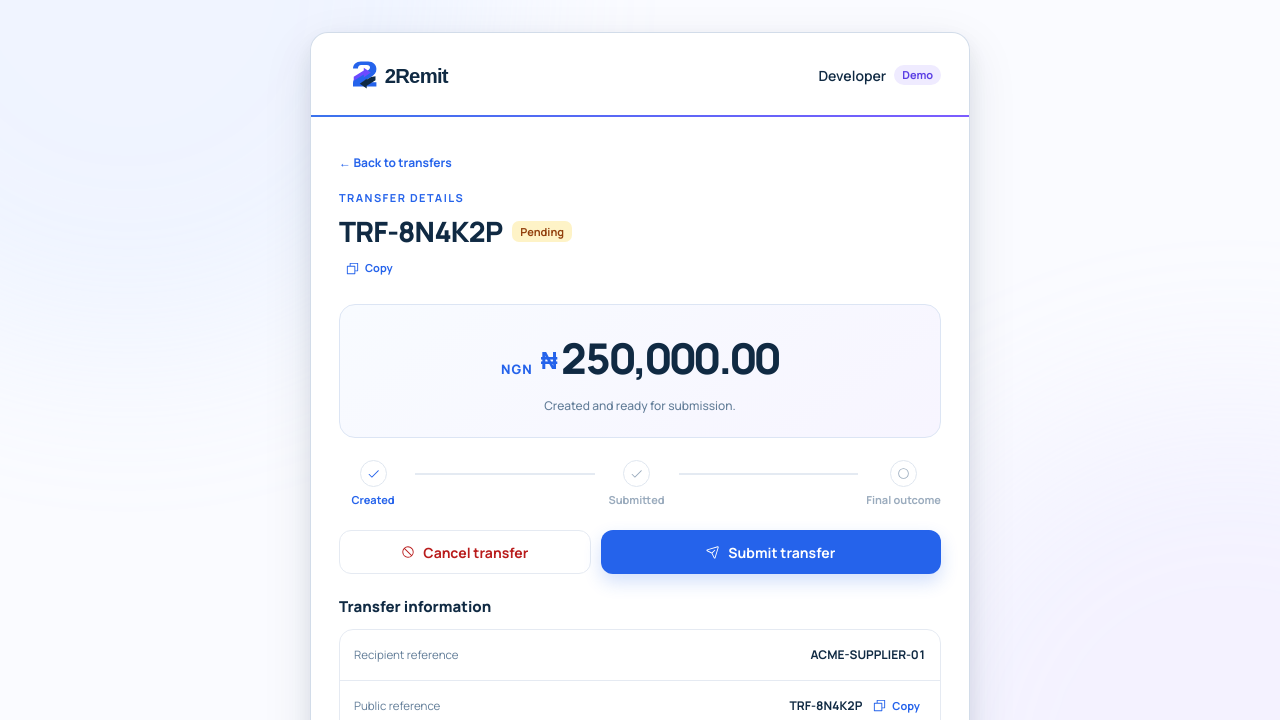
TransferDetailScreen › confirms cancellation and renders an immutable state
Expected: the heading "TRF-8N4K2P" is shown, [339,210,502,252]
Click the button "Cancel transfer" at [465, 552], box [339,530,591,574]
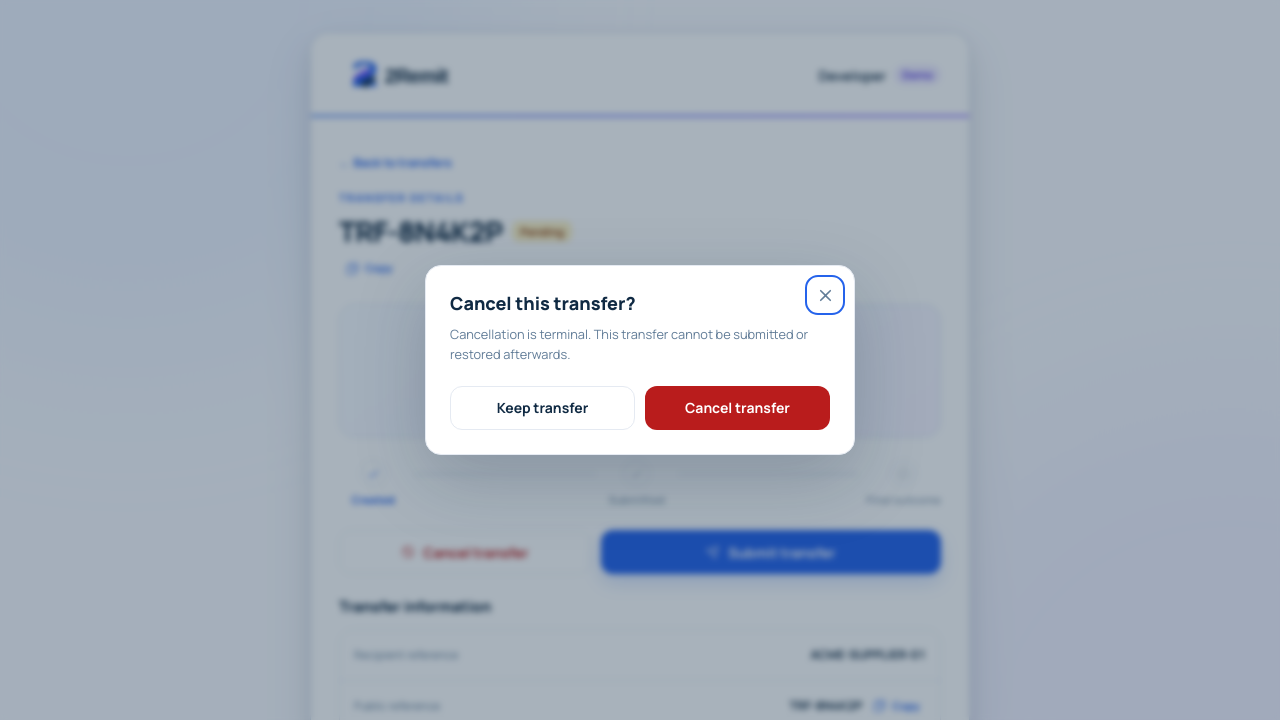
Now the dialog shows "Cancellation is terminal", box [450,325,808,362]
Click the button "Cancel transfer" at [738, 408], box [645,386,830,430]
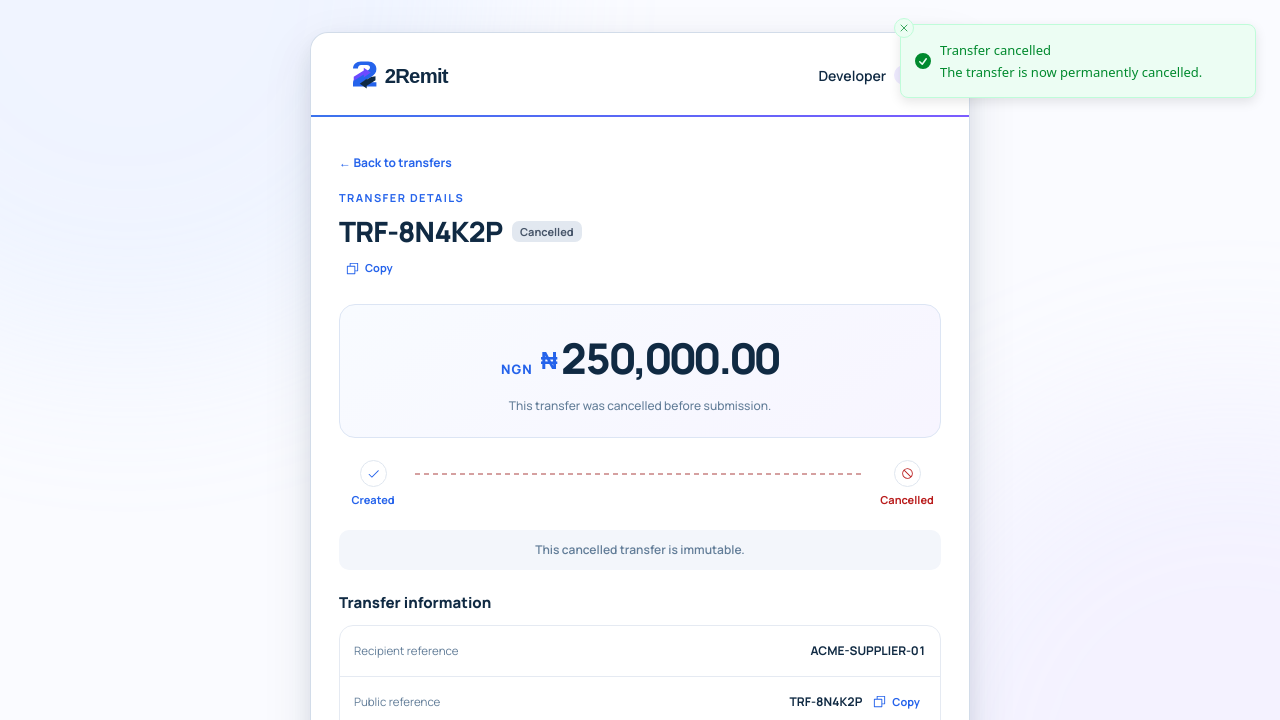
Now the text "This cancelled transfer is immutable." is shown, box [339,530,941,570]
